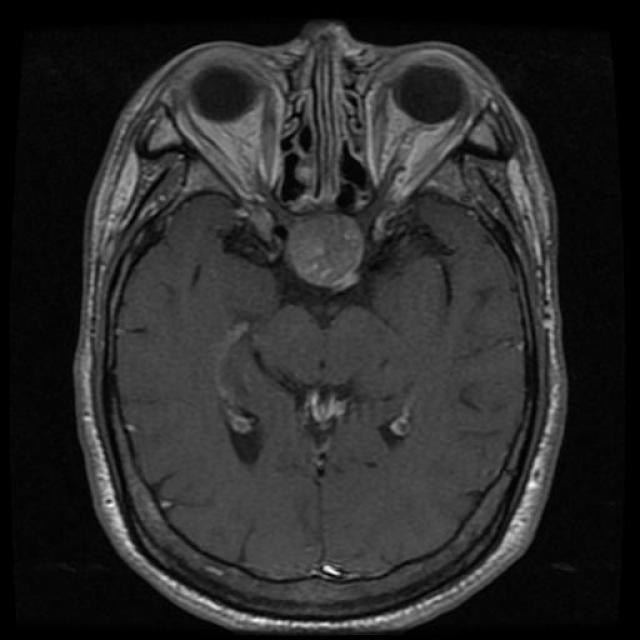pituitary: (271, 203, 383, 299)
